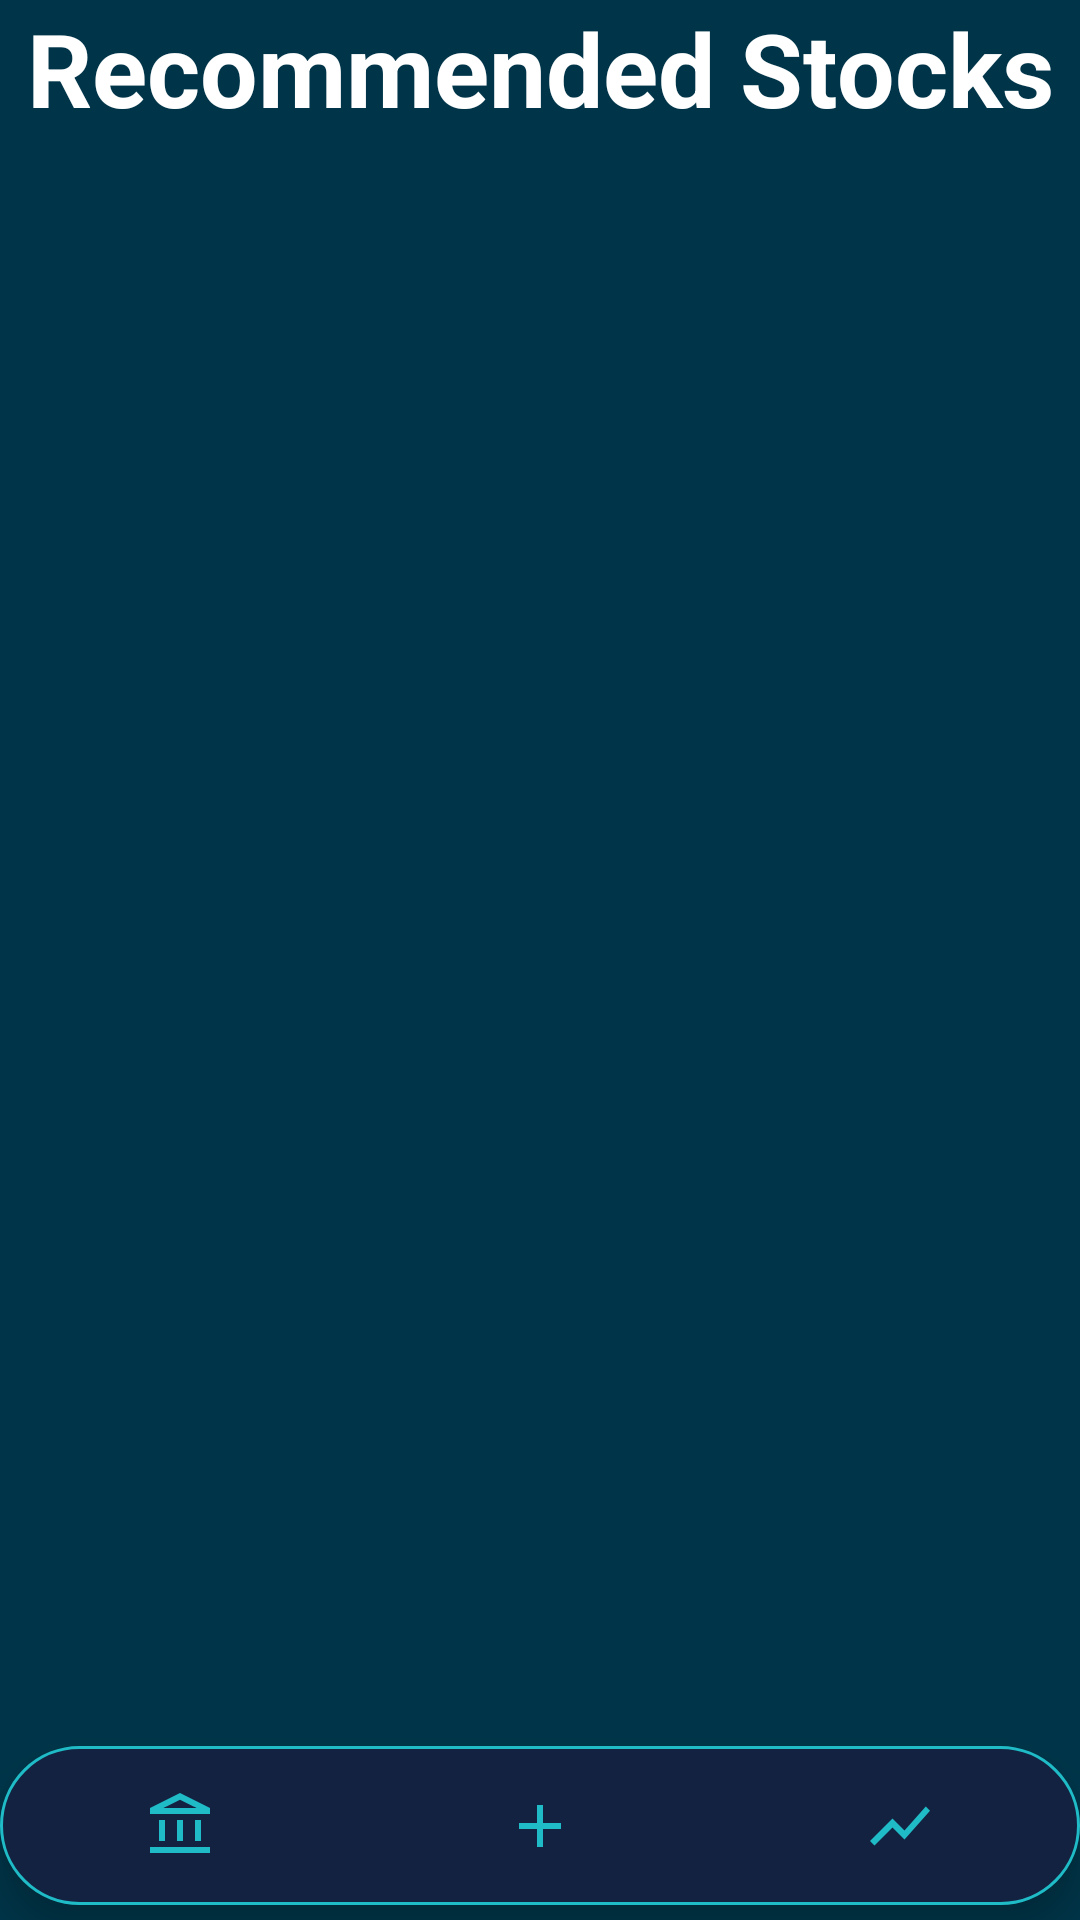

Screen size 1080 x 1920. Icon name, then its box in pixels as [x1,y1,x2,y2]:
add: [360,1746,720,1905]
market: [720,1746,1080,1905]
